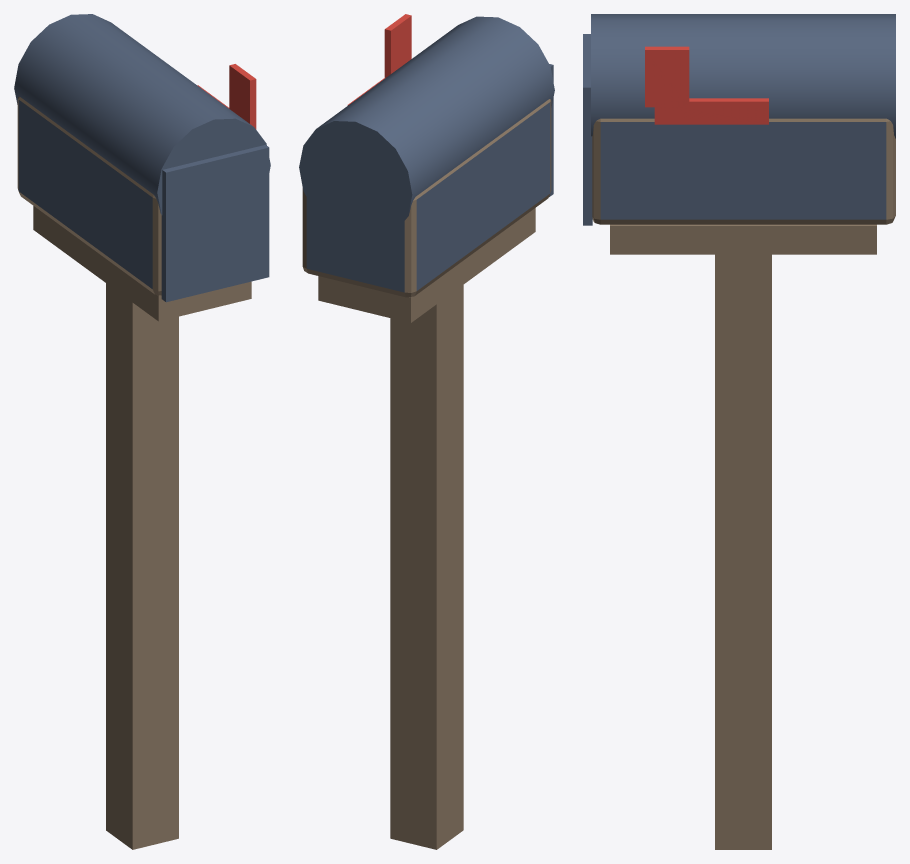
File: mailbox.glb
3 views of the same model, side by side, from view 1: azimuth 30°, elevation 25°; view 2: azimuth 150°, elevation 25°; view 3: azimuth 270°, elevation 25° (orthographic). The views are drawn at different scales.
Visible parts, largest first — view 1: Box; view 2: Box; view 3: Box.
Part boxes in pixels (x1,y1,x2,y2): Box: (14,14,270,849); Box: (299,14,554,849); Box: (583,14,895,849).
Bounding box in the file's own units: 0.241 × 1.43 × 0.4925.
